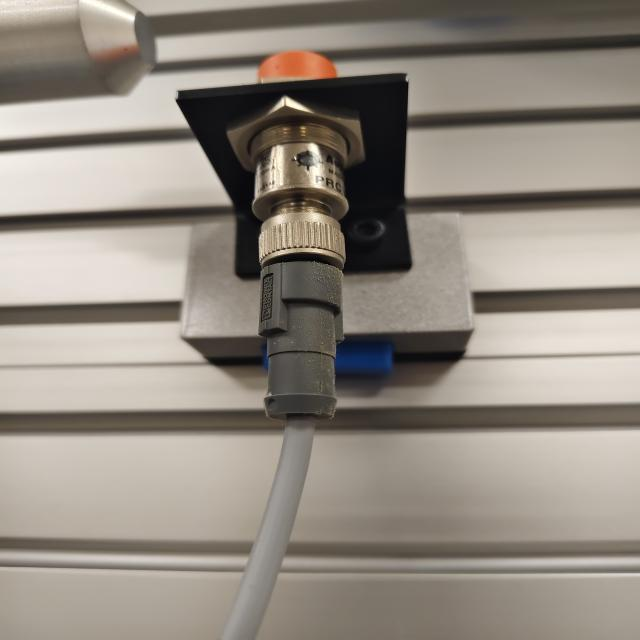inductive sensor: (158, 38, 490, 424)
